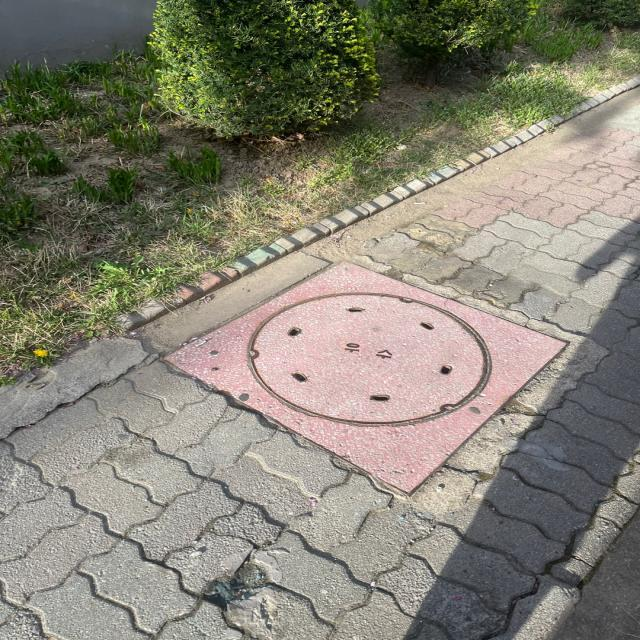Sewer Cover: (145, 237, 585, 506)
